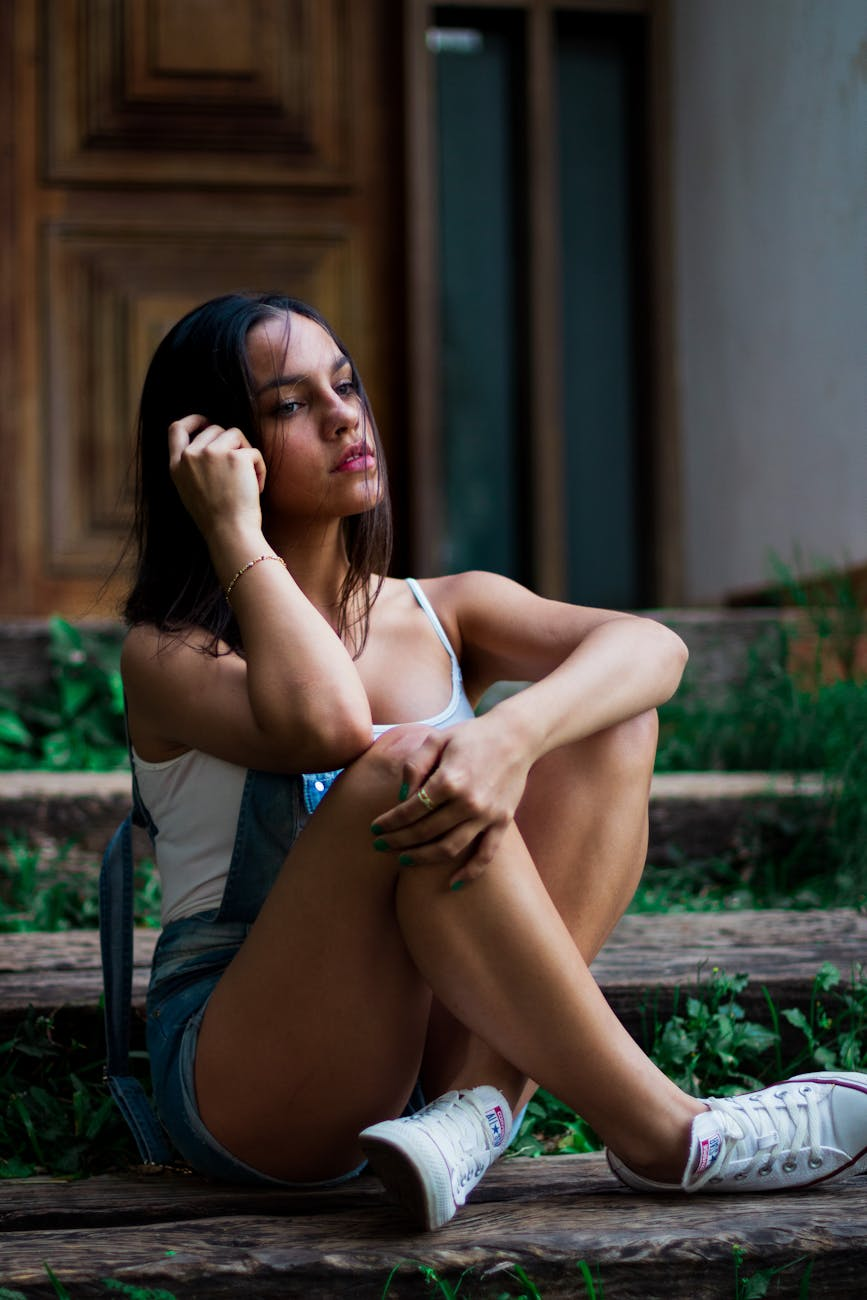shorts: (137, 902, 344, 1134)
sleeveless_top: (102, 612, 502, 902)
